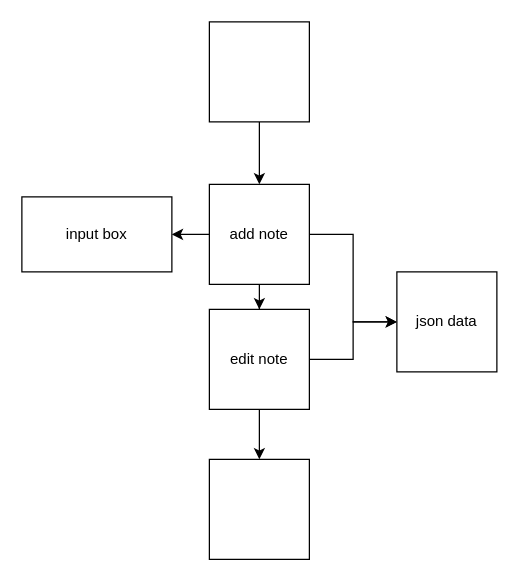
Some shapes in this 519 by 581 pixel diagram are drawn without their labels. The box of each missing label's shape, as (x1, y1, x2, y2) in pixels:
delete note: (208, 458, 309, 559)
login: (208, 21, 309, 122)
